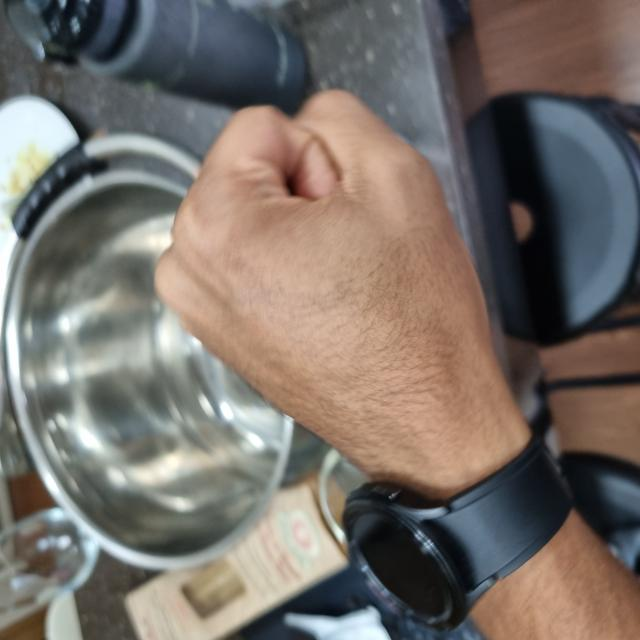Rock: (139, 153, 549, 526)
